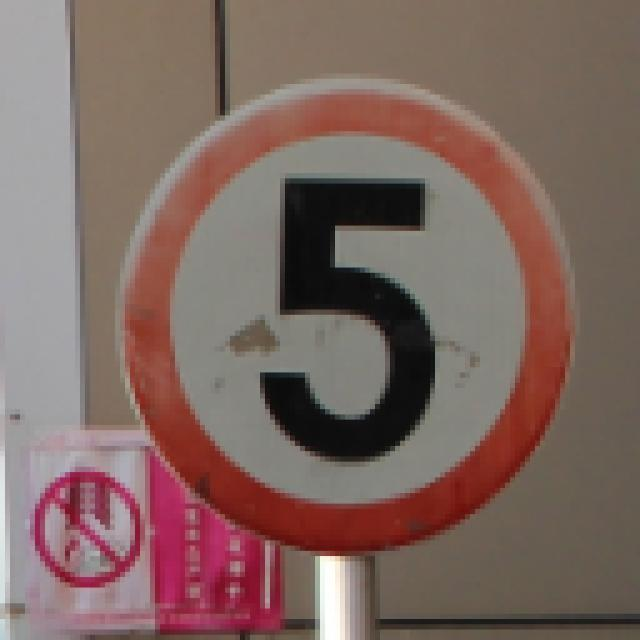Speed: (107, 58, 614, 566)
